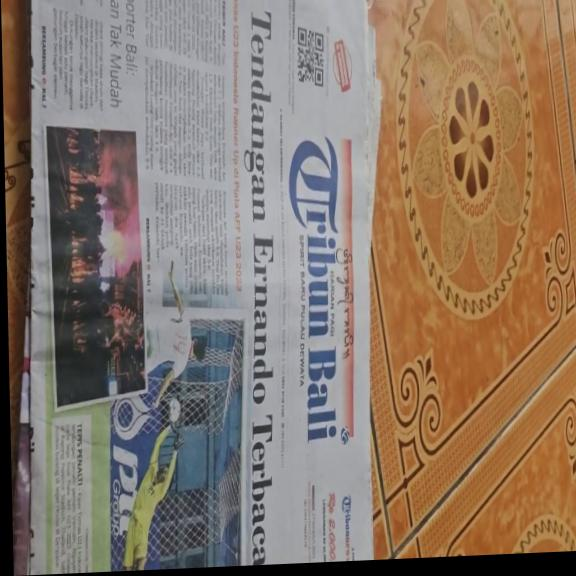Kertas: (21, 0, 381, 565)
